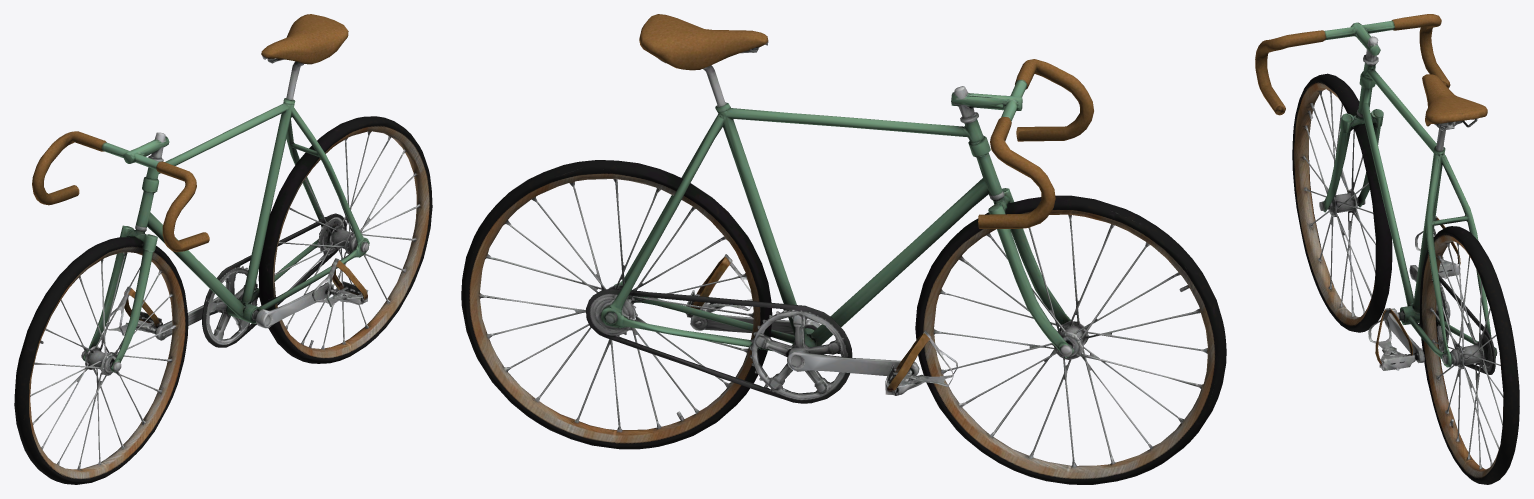
File: Bicycle_Track_Bike_01.gltf
3 views of the same model, side by side, from view 1: azimuth 30°, elevation 25°; view 2: azimuth 150°, elevation 25°; view 3: azimuth 270°, elevation 25° (orthographic). The views are drawn at different scales.
Visible parts, largest first — view 1: Simplygon_Proxy_LOD1; view 2: Simplygon_Proxy_LOD1; view 3: Simplygon_Proxy_LOD1.
Boxes of the visible parts, x1,y1,x2,y2 form: Simplygon_Proxy_LOD1: [14, 14, 432, 484]; Simplygon_Proxy_LOD1: [461, 14, 1226, 484]; Simplygon_Proxy_LOD1: [1255, 14, 1519, 484].
Bounding box in the file's own units: 165 × 106 × 72.04.
Materials: 1 (1 with a texture image).
